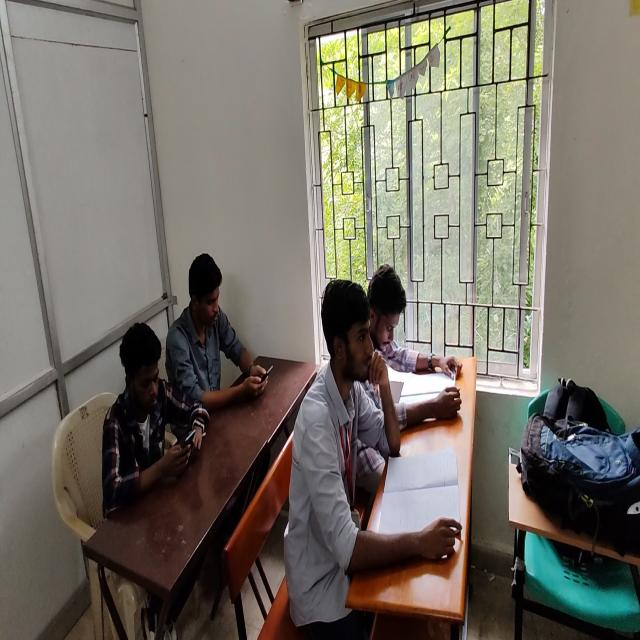reading: (288, 277, 438, 638), (370, 262, 460, 382)
using_mobile: (103, 319, 212, 519), (163, 249, 268, 443)
